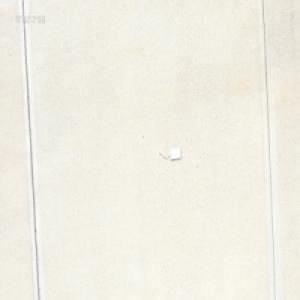LuggageTag: (156, 146, 181, 162)
